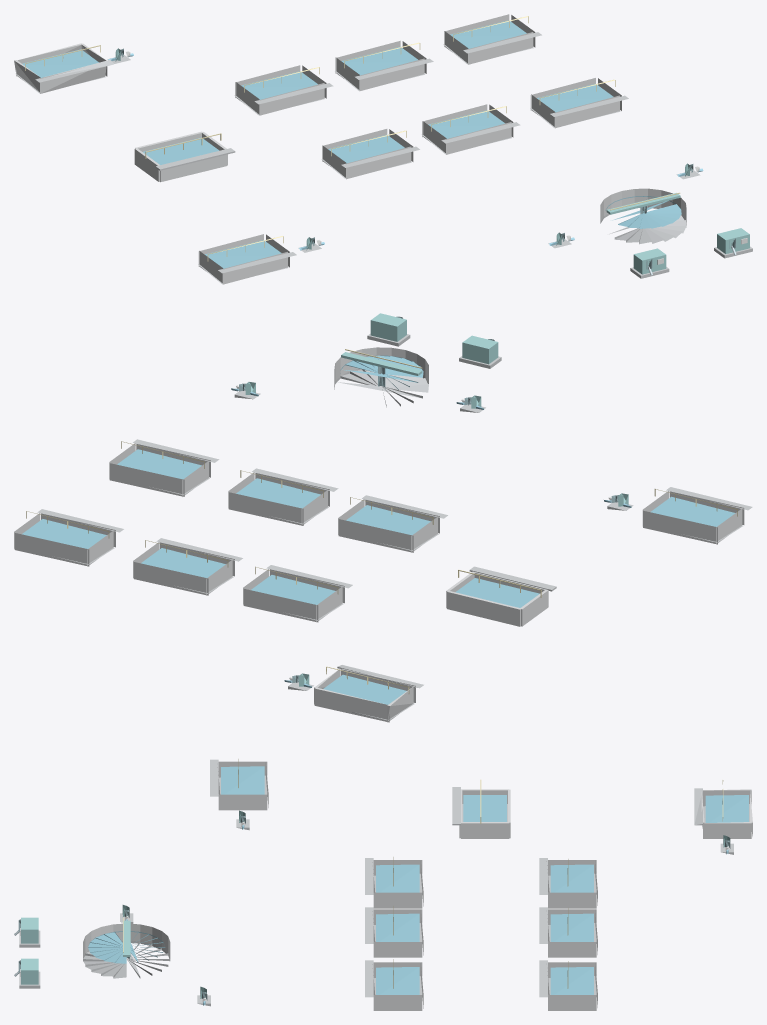
3 renders of one model, top to bottom at view 1: azimuth 30°, elevation 25°; view 2: azimuth 150°, elevation 25°; view 3: azimuth 270°, elevation 25°, orthographic. The views are drawn at different scales.
Parts seen in each view (by area): view 1: render-batch-6, render-batch-0, render-batch-4, render-batch-3, render-batch-8; view 2: render-batch-6, render-batch-0, render-batch-4, render-batch-3, render-batch-8; view 3: render-batch-6, render-batch-0, render-batch-4, render-batch-3, render-batch-8.
Boxes of the visible parts, bbox=[...] form: render-batch-6: bbox=[14, 14, 686, 284]; render-batch-0: bbox=[22, 20, 681, 268]; render-batch-4: bbox=[15, 32, 752, 283]; render-batch-3: bbox=[115, 48, 749, 274]; render-batch-8: bbox=[25, 16, 680, 261]; render-batch-6: bbox=[14, 347, 744, 722]; render-batch-0: bbox=[22, 355, 735, 704]; render-batch-4: bbox=[37, 333, 752, 720]; render-batch-3: bbox=[245, 313, 628, 686]; render-batch-8: bbox=[26, 349, 737, 693]; render-batch-6: bbox=[83, 761, 752, 1010]; render-batch-0: bbox=[88, 766, 748, 994]; render-batch-4: bbox=[19, 759, 751, 1006]; render-batch-3: bbox=[21, 810, 730, 998]; render-batch-8: bbox=[123, 759, 723, 988].
Bounding box in the file's own units: 58.08 × 2.99 × 76.28.
